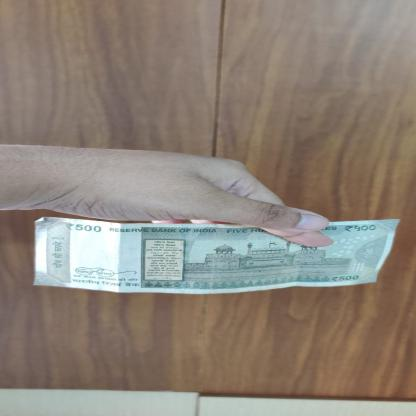New500Back: (31, 215, 400, 295)
